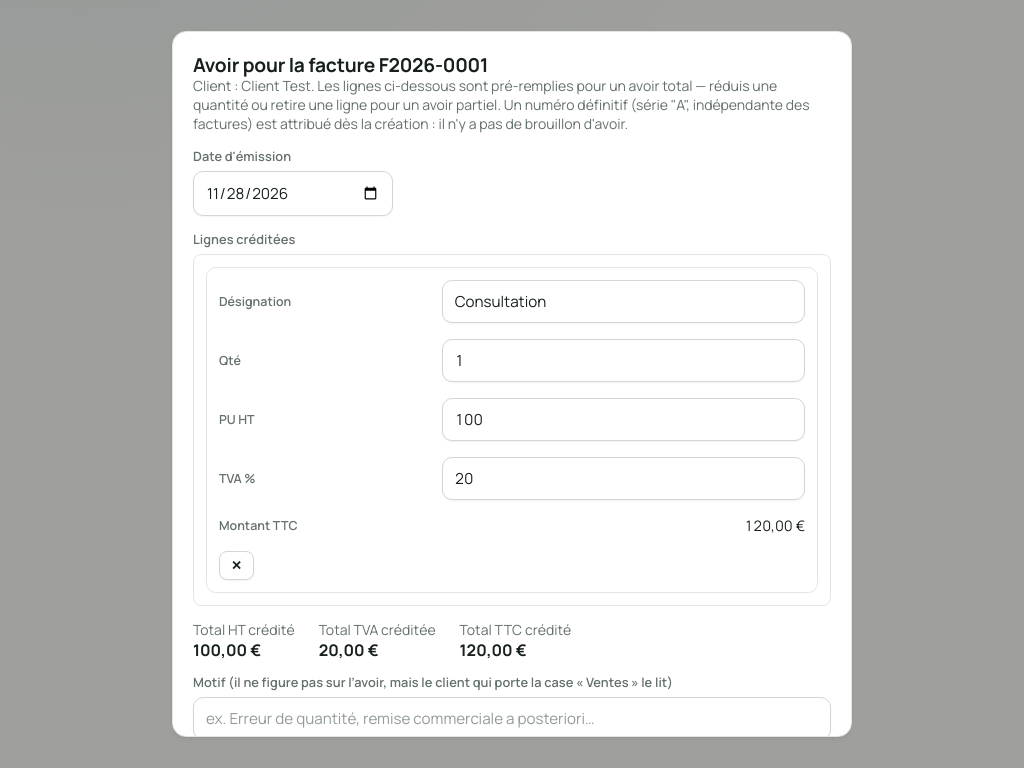
FactureAvoirModal — ce que la base refuserait se dit avant le clic › sans ligne créditée, l’avoir est refusé
Expected: the field showing "Consultation" is shown, [442, 280, 805, 323]
Replace the text in the 1st number field with "0" at x=623, y=360, box [442, 339, 805, 382]
(page scrolled)
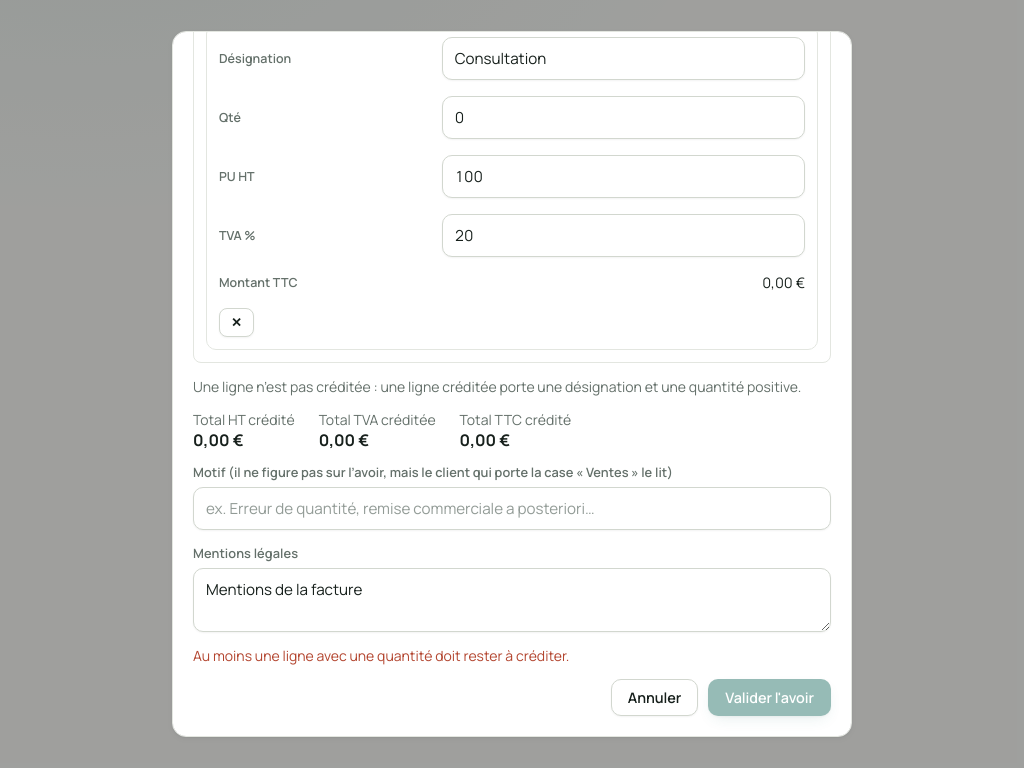
Expected: the text "Au moins une ligne avec une quantité doit rester à créditer." is shown, [193, 646, 569, 665]
Expected: the button "Valider l'avoir" is disabled, [708, 679, 831, 716]
